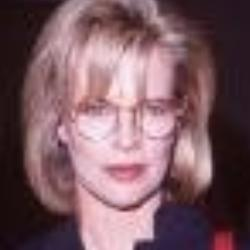face: (14, 3, 216, 220)
